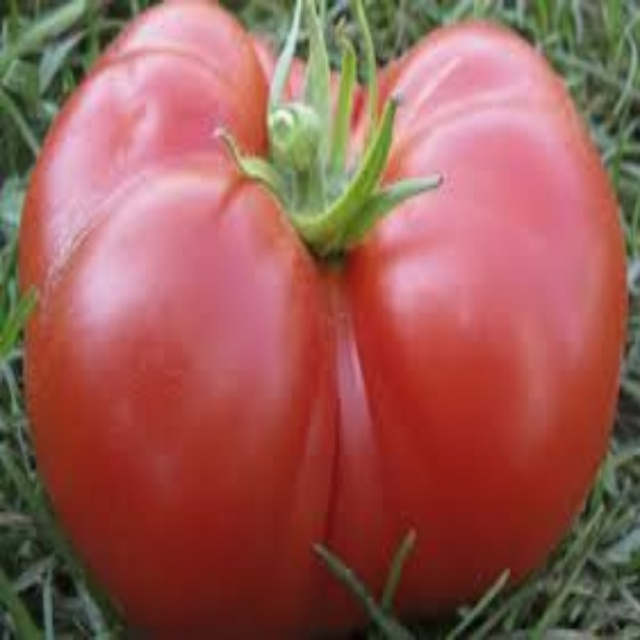tomato: (33, 11, 629, 618)
